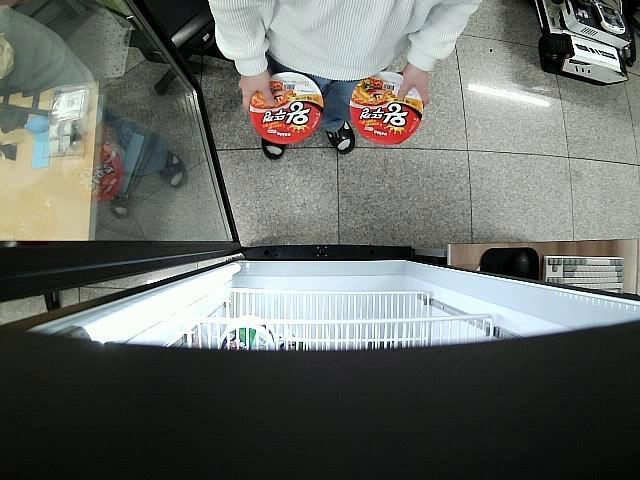10_wangTtukkeong: (248, 70, 324, 144), (352, 73, 422, 144)
